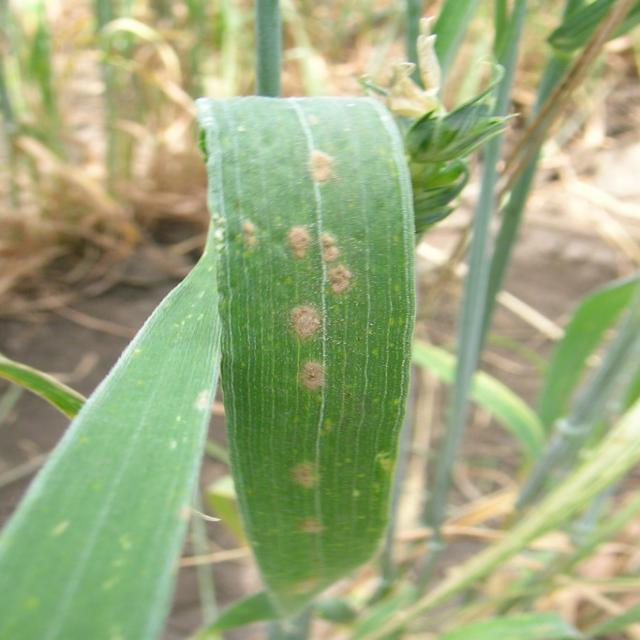wheat-powdery-mildew: (288, 306, 323, 339), (298, 362, 328, 392), (310, 150, 335, 182), (316, 232, 339, 266), (329, 266, 353, 296), (288, 226, 309, 257), (292, 463, 318, 488), (243, 220, 259, 249), (301, 517, 324, 533)
